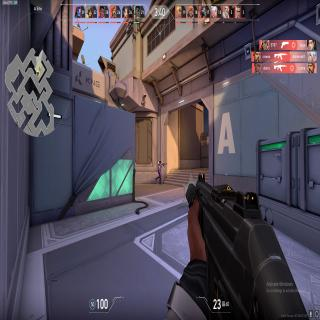ENEMY-BODY: (157, 160, 162, 186)
ENEMY-HEAD: (159, 160, 161, 164)
